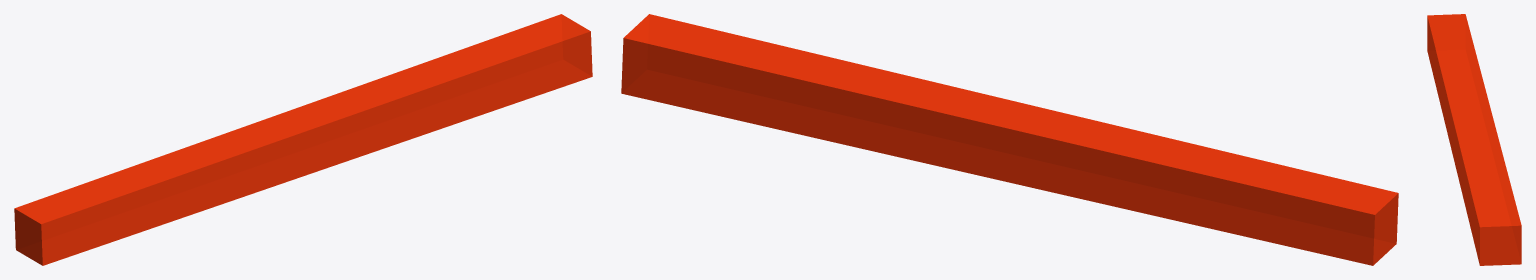
File: Event_421127236_EErechit_40.fbx
3 views of the same model, side by side, from view 1: azimuth 30°, elevation 25°; view 2: azimuth 150°, elevation 25°; view 3: azimuth 270°, elevation 25° (orthographic). The views are drawn at different scales.
Visible parts, largest first — view 1: Model; view 2: Model; view 3: Model.
Boxes of the visible parts, <box> form: Model: <box>14,14,592,265</box>; Model: <box>621,14,1398,265</box>; Model: <box>1427,14,1521,265</box>.
Size of the model in its own units: 1.06 by 0.1207 by 0.178.
